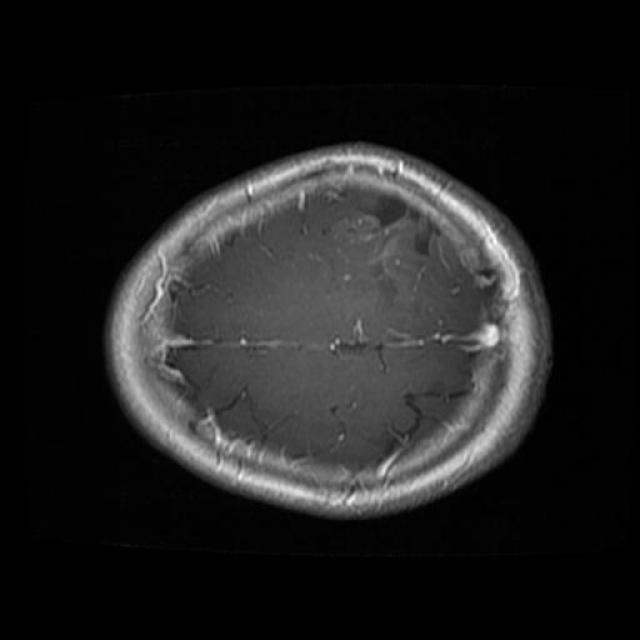Glioma: (347, 190, 453, 261), (455, 322, 502, 372)
